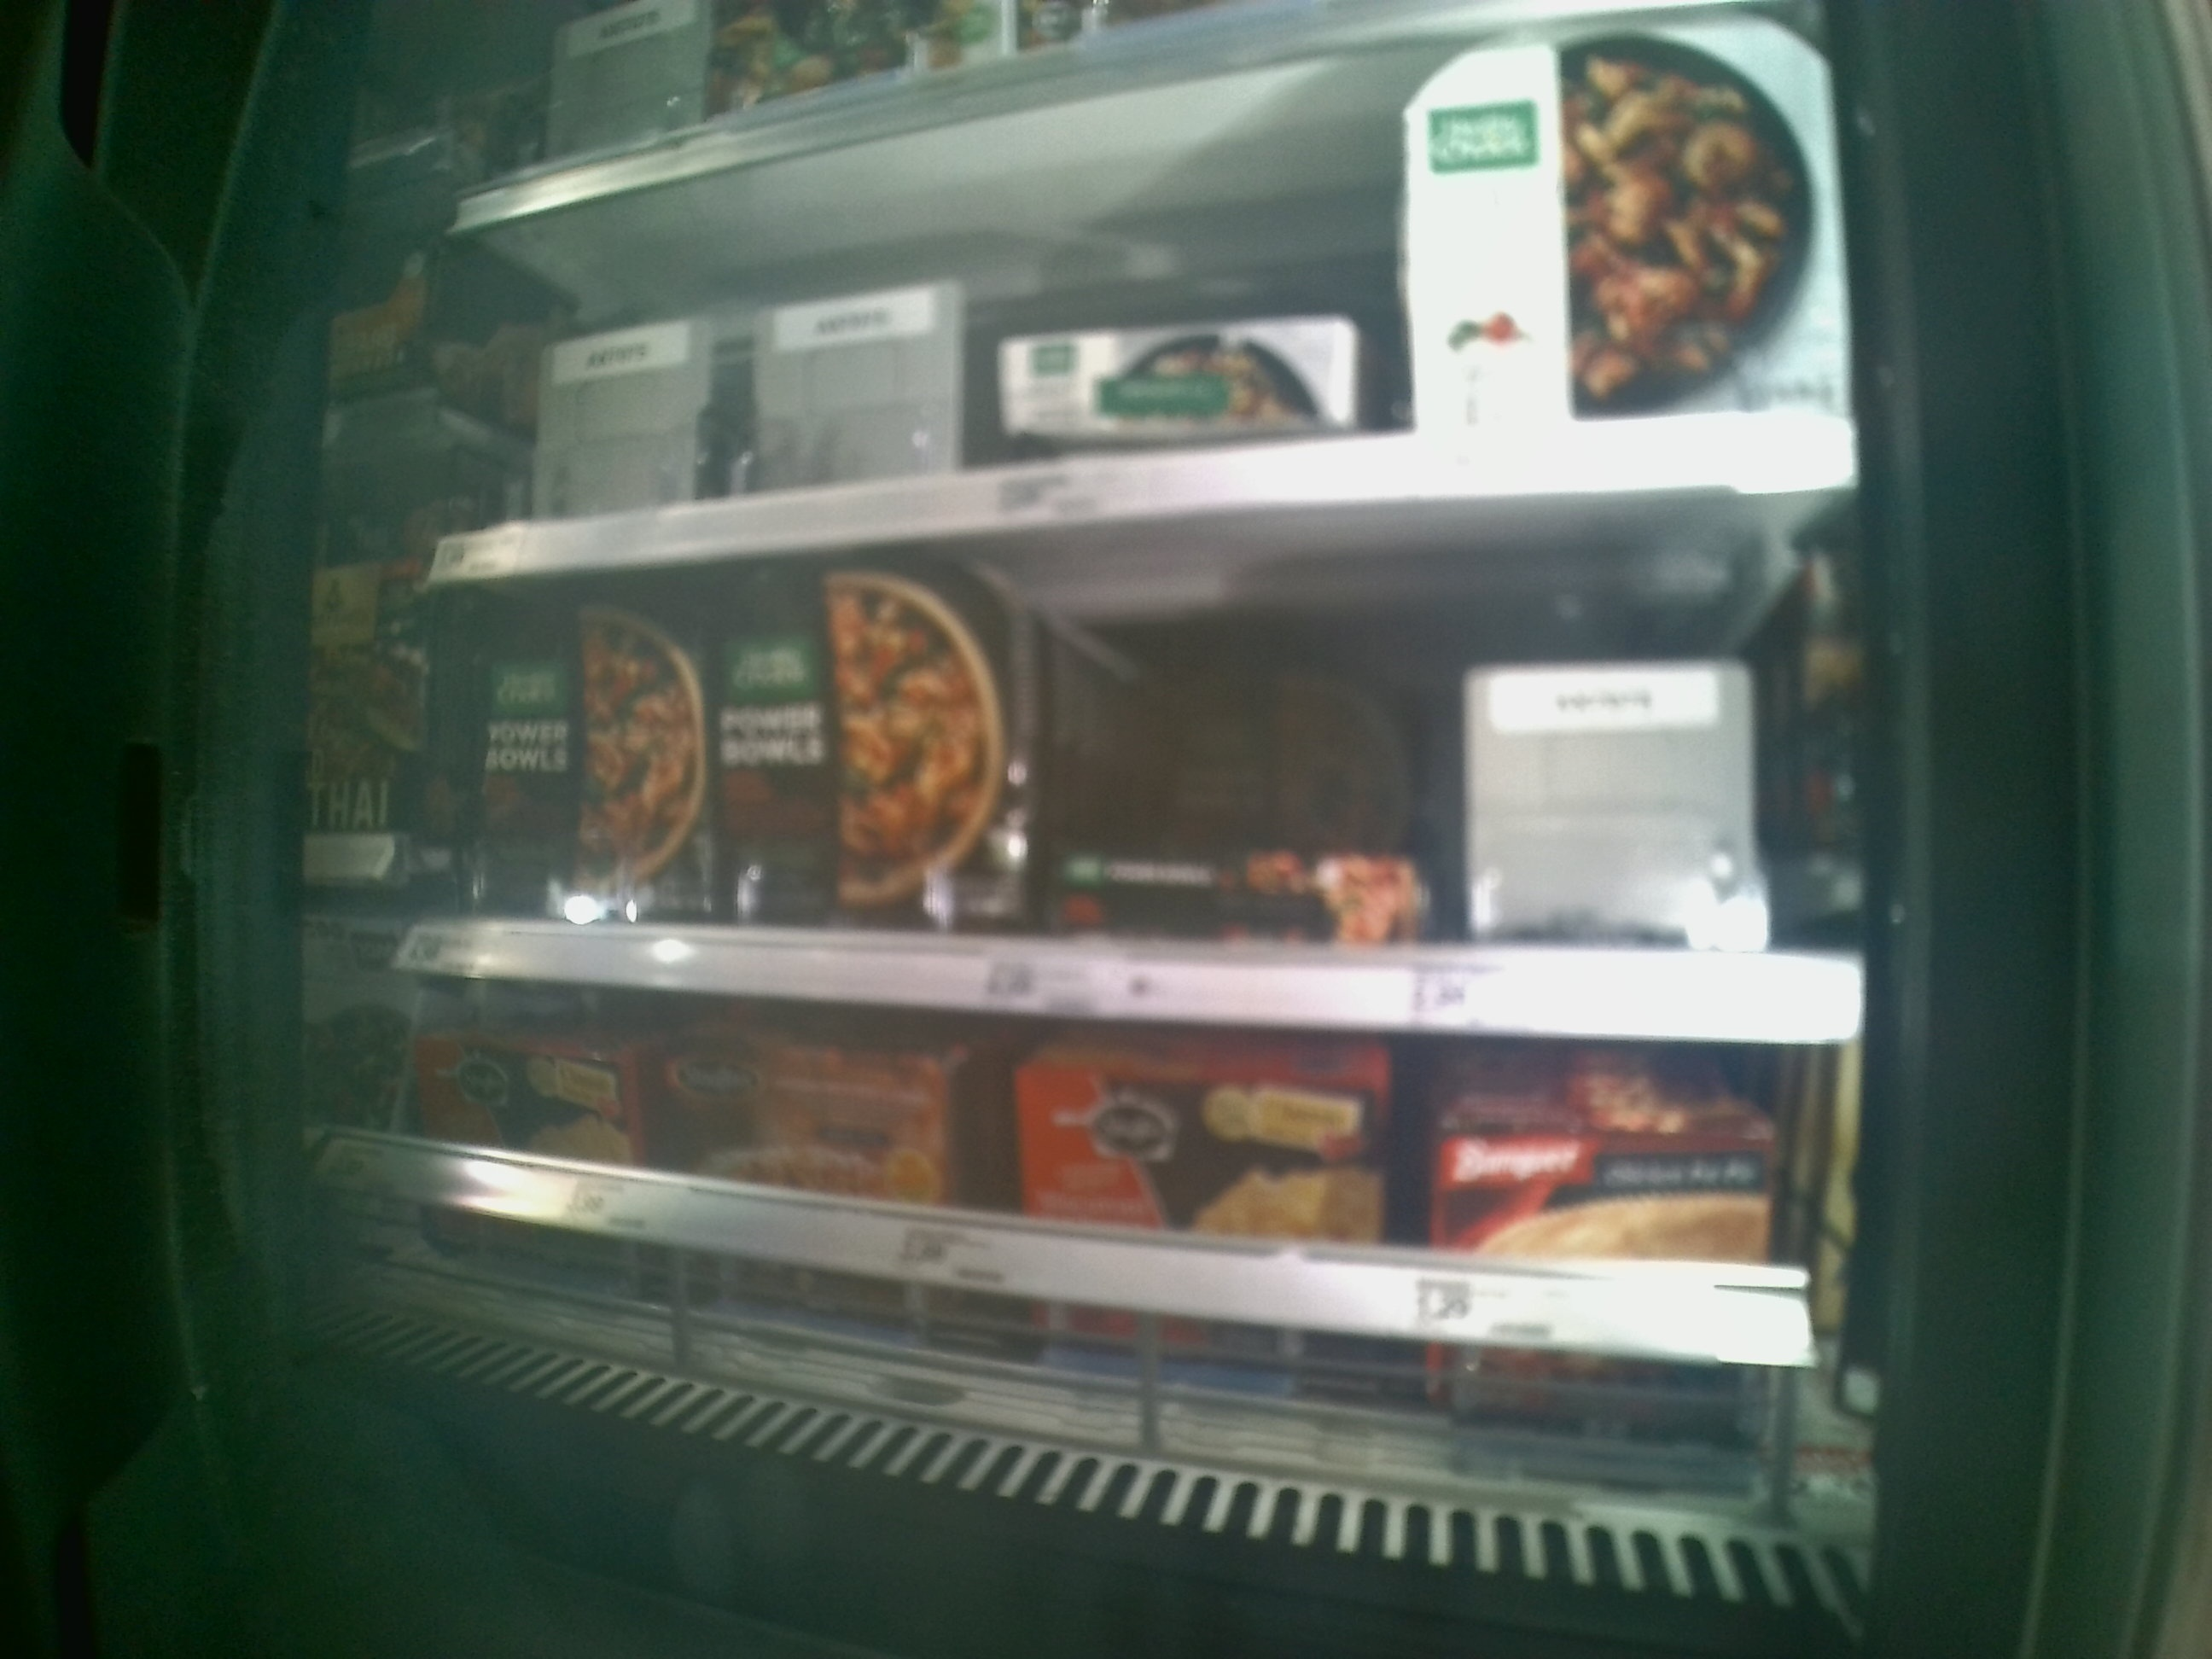shelf: (366, 969, 1879, 1525), (390, 486, 1851, 1032)
